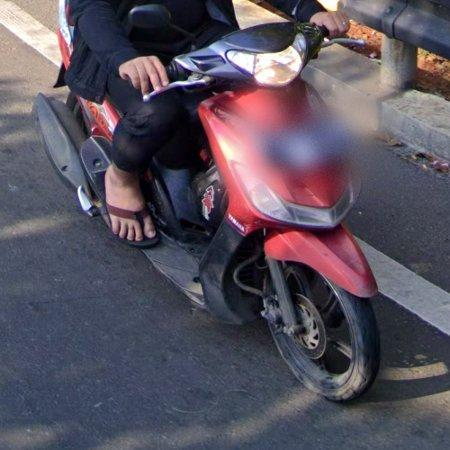motorcycles: (34, 93, 119, 228)
